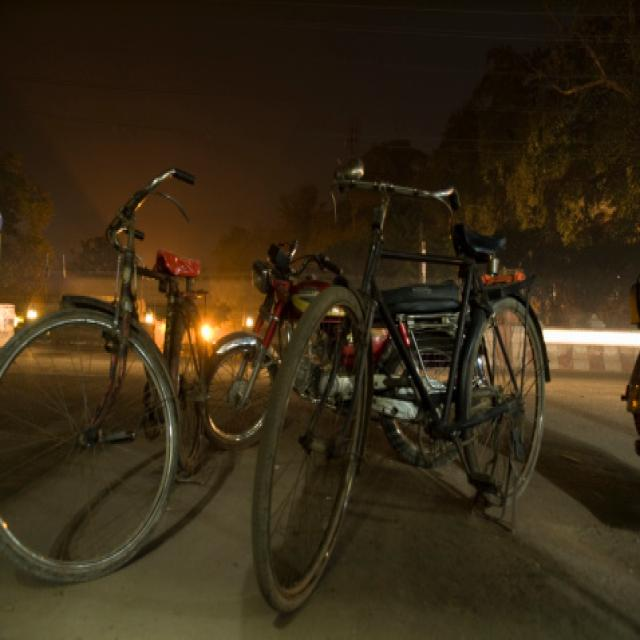Bicycle: (232, 217, 597, 619), (0, 184, 349, 552)
